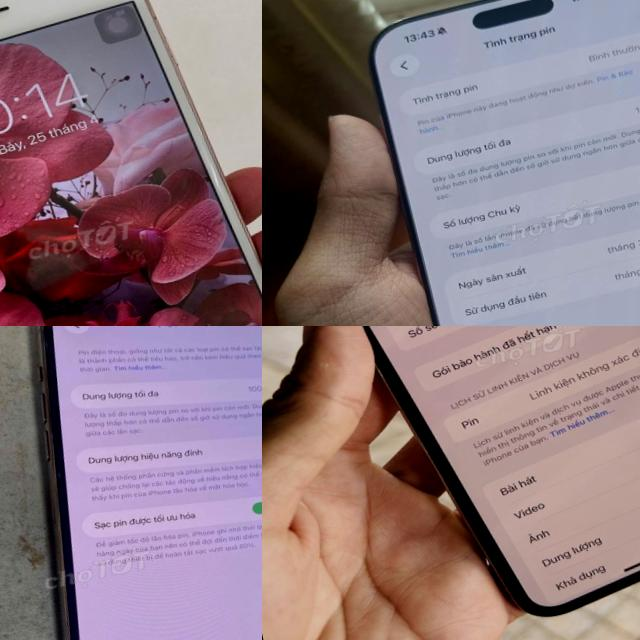gen_12_13: (0, 326, 262, 640)
gen_16: (369, 0, 640, 326)
gen_7_8: (0, 0, 262, 326)
gen_x_xs: (363, 326, 640, 615)
